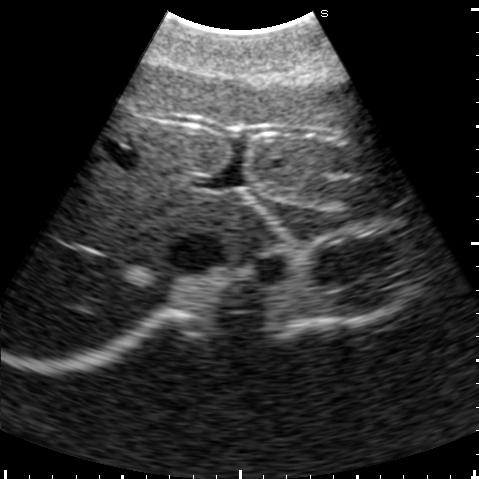IVC: (164, 232, 224, 272)
S1: (226, 205, 275, 260)
S2: (247, 187, 413, 239)
S3: (226, 77, 409, 203)
